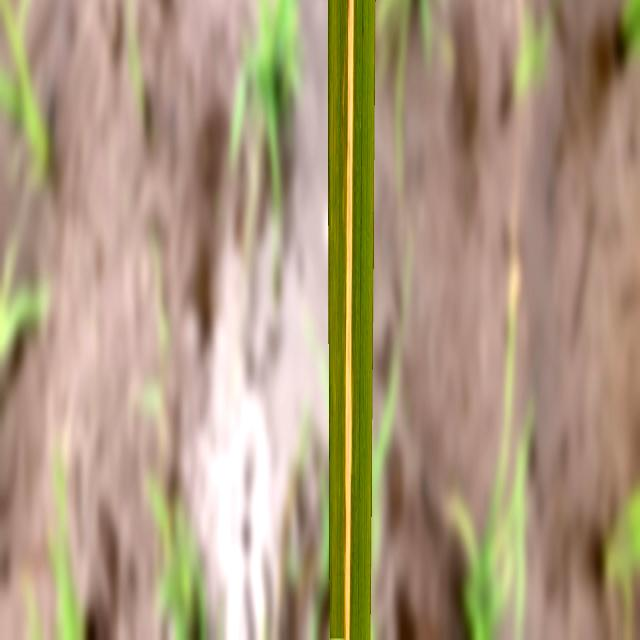BLB: (344, 0, 354, 638)
